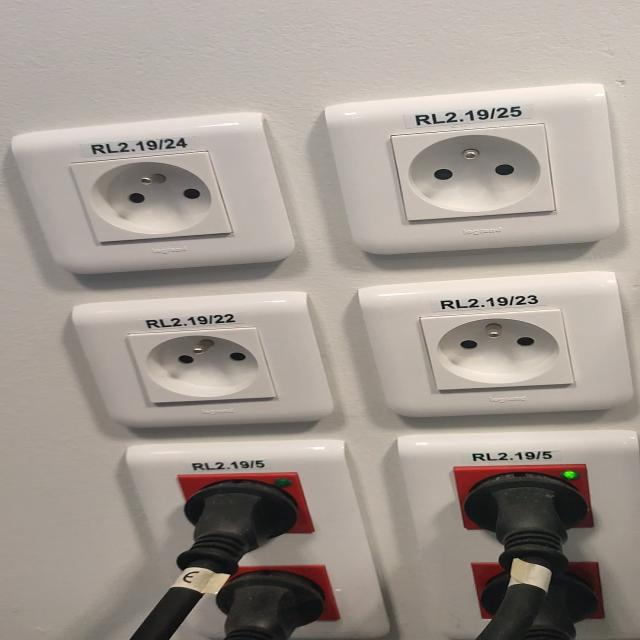house plug: (393, 122, 560, 228), (70, 151, 234, 242), (421, 308, 577, 391), (124, 327, 279, 404)
